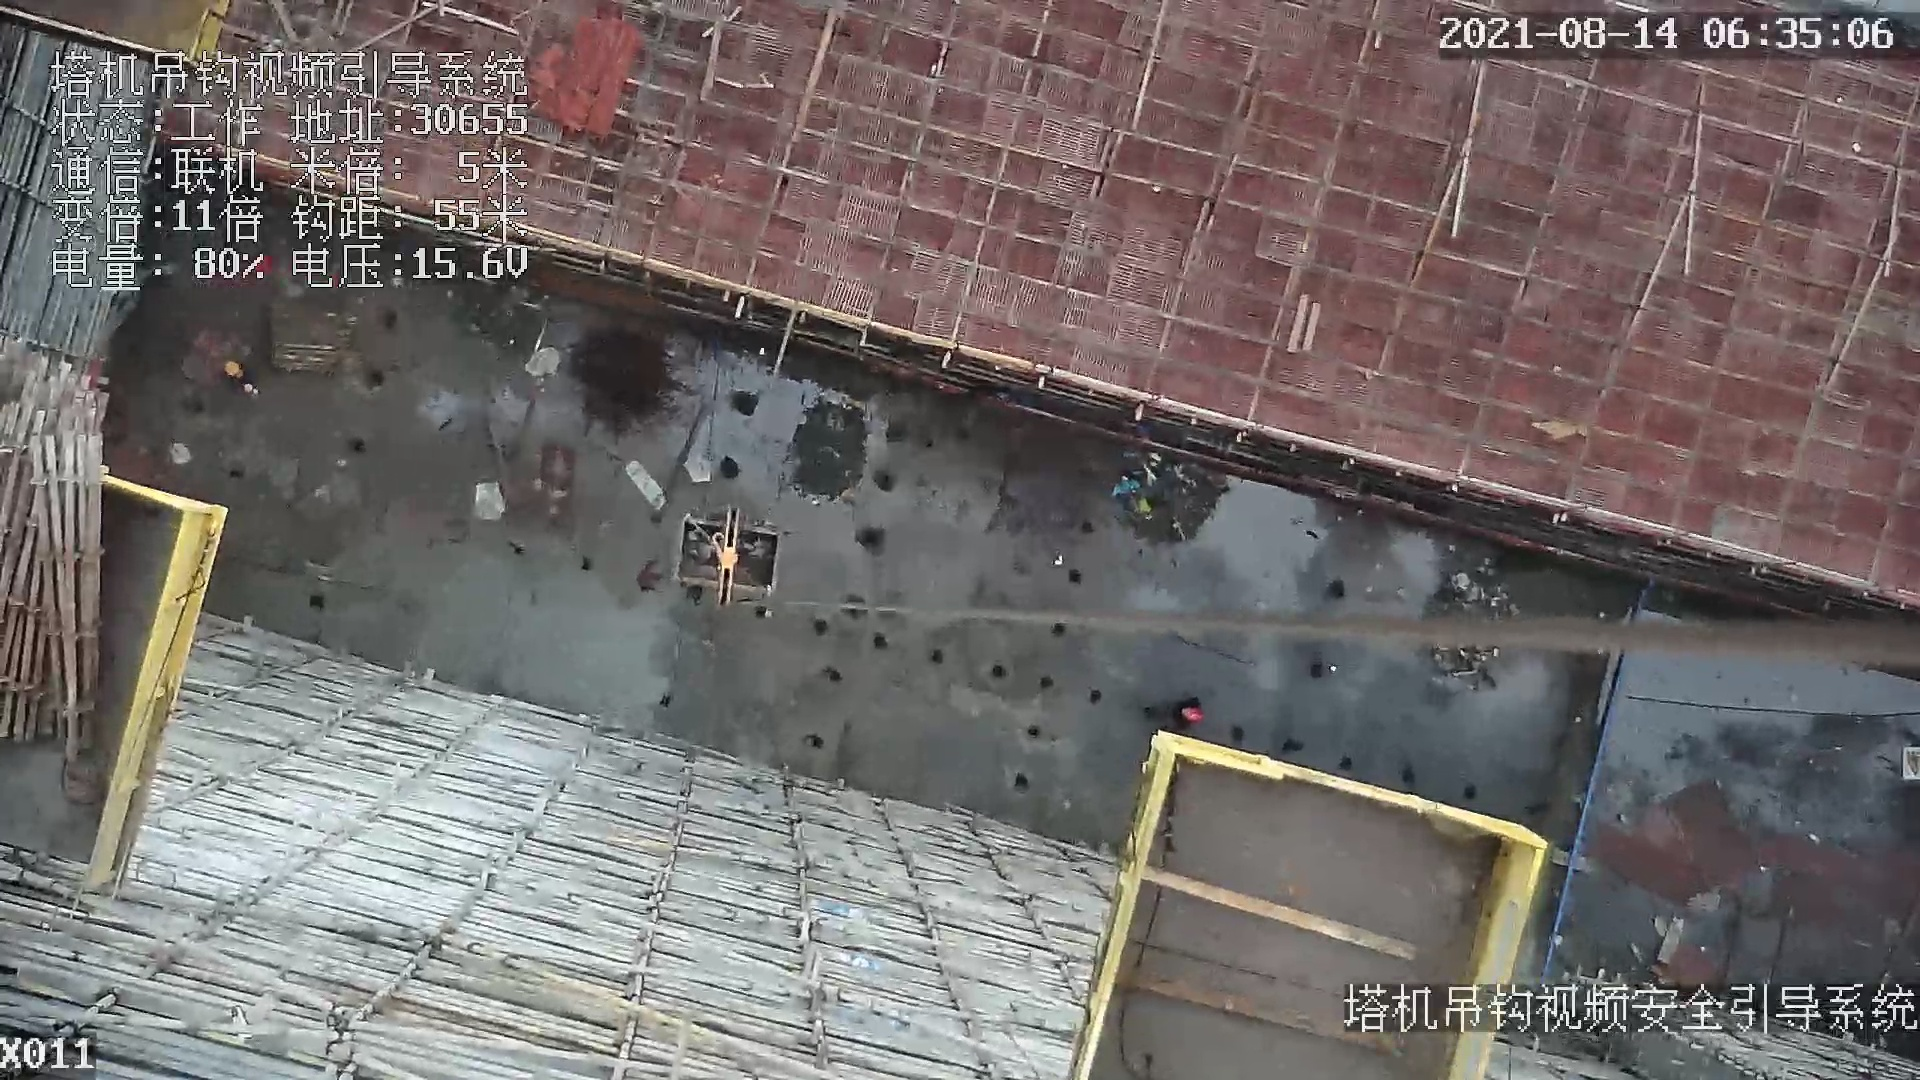helmet: (1190, 707, 1206, 726), (224, 361, 240, 377)
hook: (714, 508, 741, 612)
hopper: (667, 514, 796, 632)
person: (1147, 687, 1213, 738), (223, 355, 265, 400)
scaffold: (6, 345, 118, 762)
